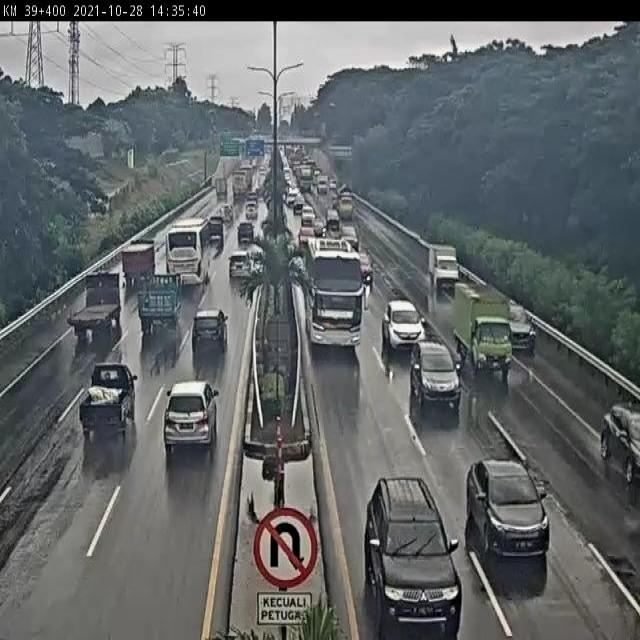Bus: (298, 231, 372, 360), (163, 212, 220, 284)
Car: (363, 477, 463, 637), (469, 441, 554, 578), (80, 363, 138, 442), (408, 341, 463, 424), (163, 379, 220, 458), (598, 402, 640, 483), (381, 300, 423, 359), (191, 308, 228, 355), (508, 305, 536, 357)
Truck: (65, 267, 127, 339), (129, 276, 177, 330), (114, 237, 159, 291), (423, 241, 462, 296)
